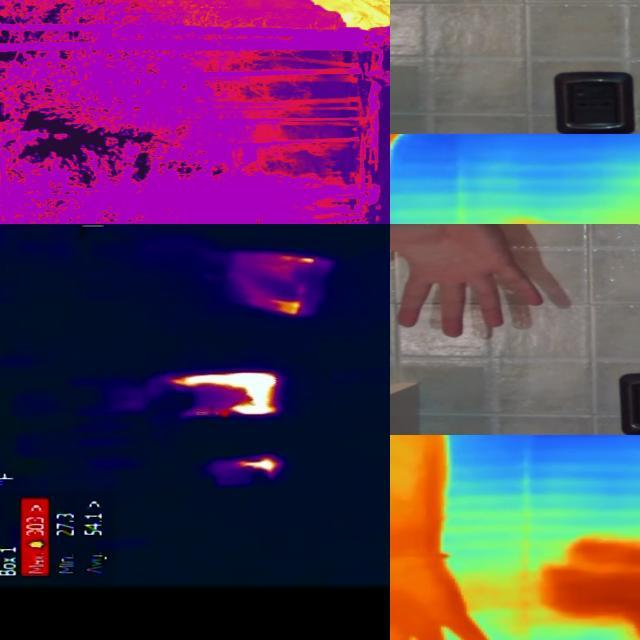fire: (562, 548, 640, 624), (169, 371, 281, 417), (309, 1, 391, 35), (236, 454, 280, 476), (267, 295, 307, 317), (300, 255, 322, 264)
